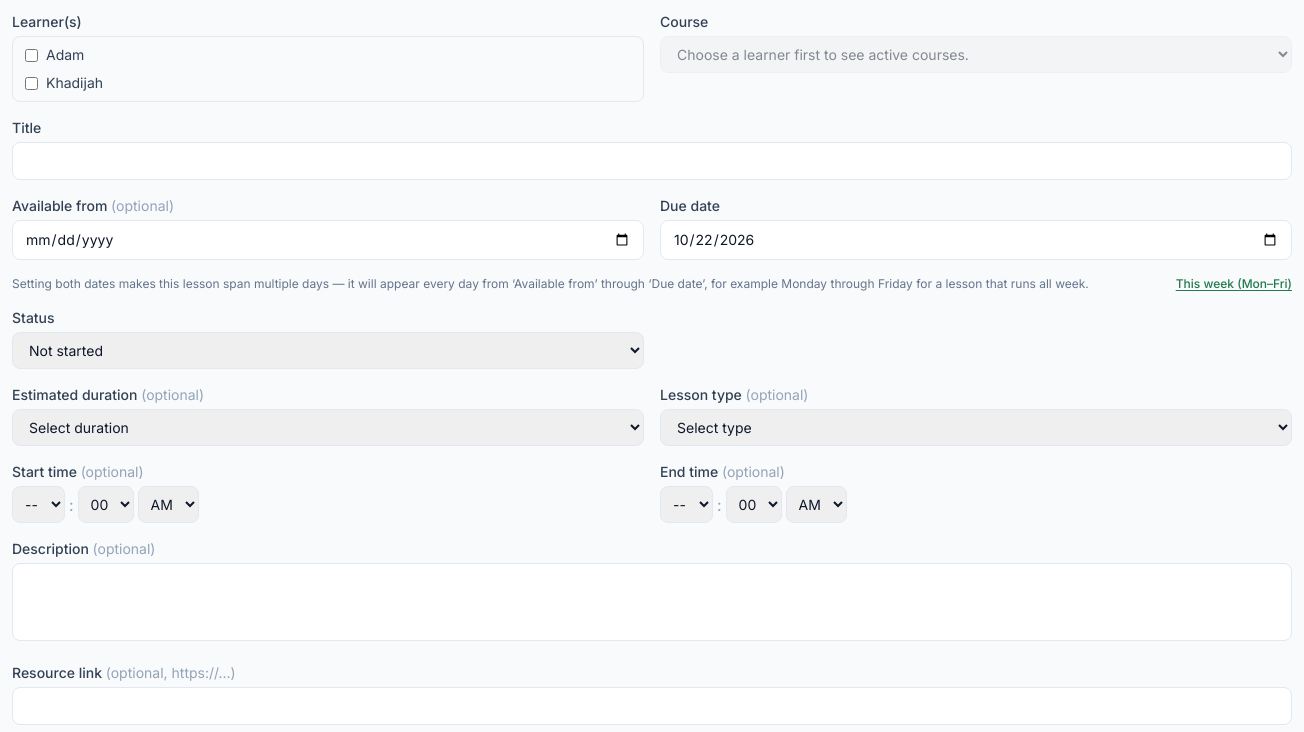
Test: LessonTaskForm — off-day (household schoolDays) awareness › shows a non-blocking inline warning when due date falls on an off day (default Mon–Fri schedule)
# 2026-05-16 is a Saturday — an off day under the default Mon–Fri schedule
Type "2026-05-16" into the date field labelled "Due date" at (976, 240), box x1=660 y1=220 x2=1292 y2=260
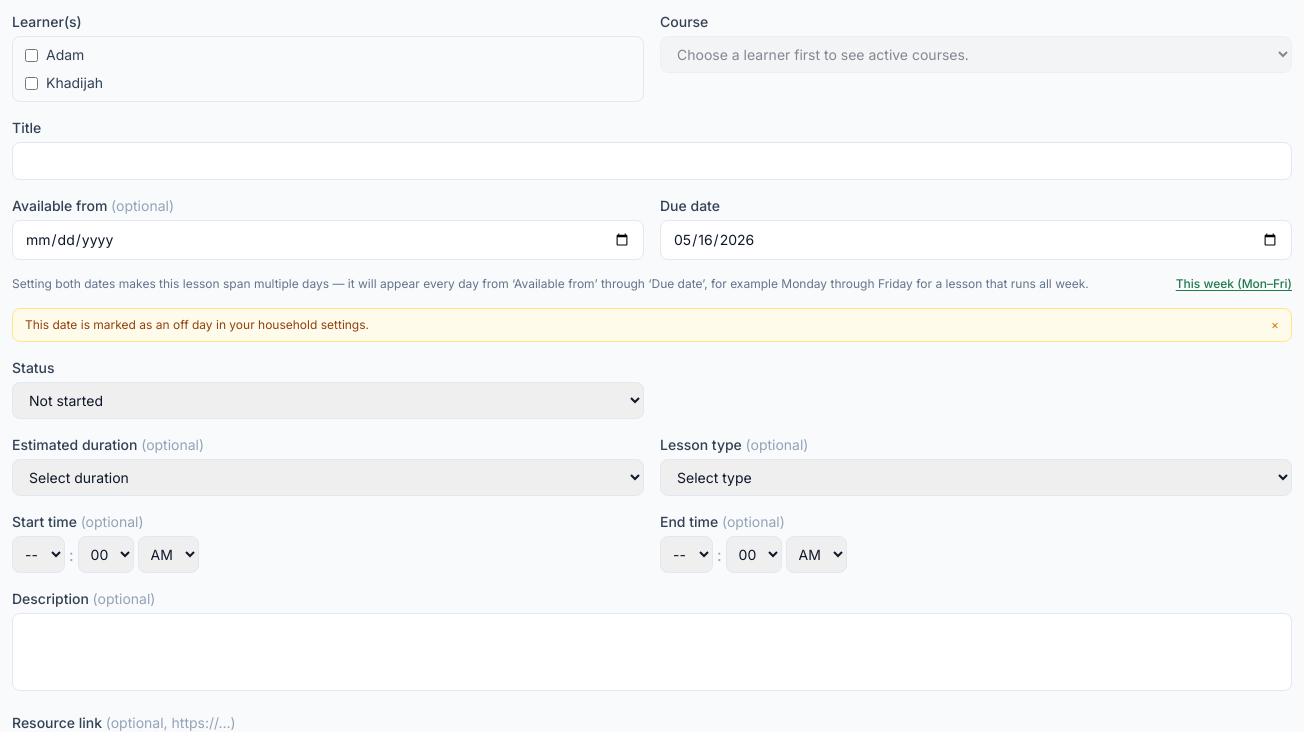
Now the text "off day" is shown, box x1=25 y1=317 x2=369 y2=332
